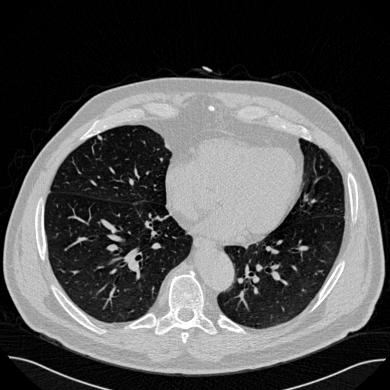nodule: (97, 135, 101, 139)
